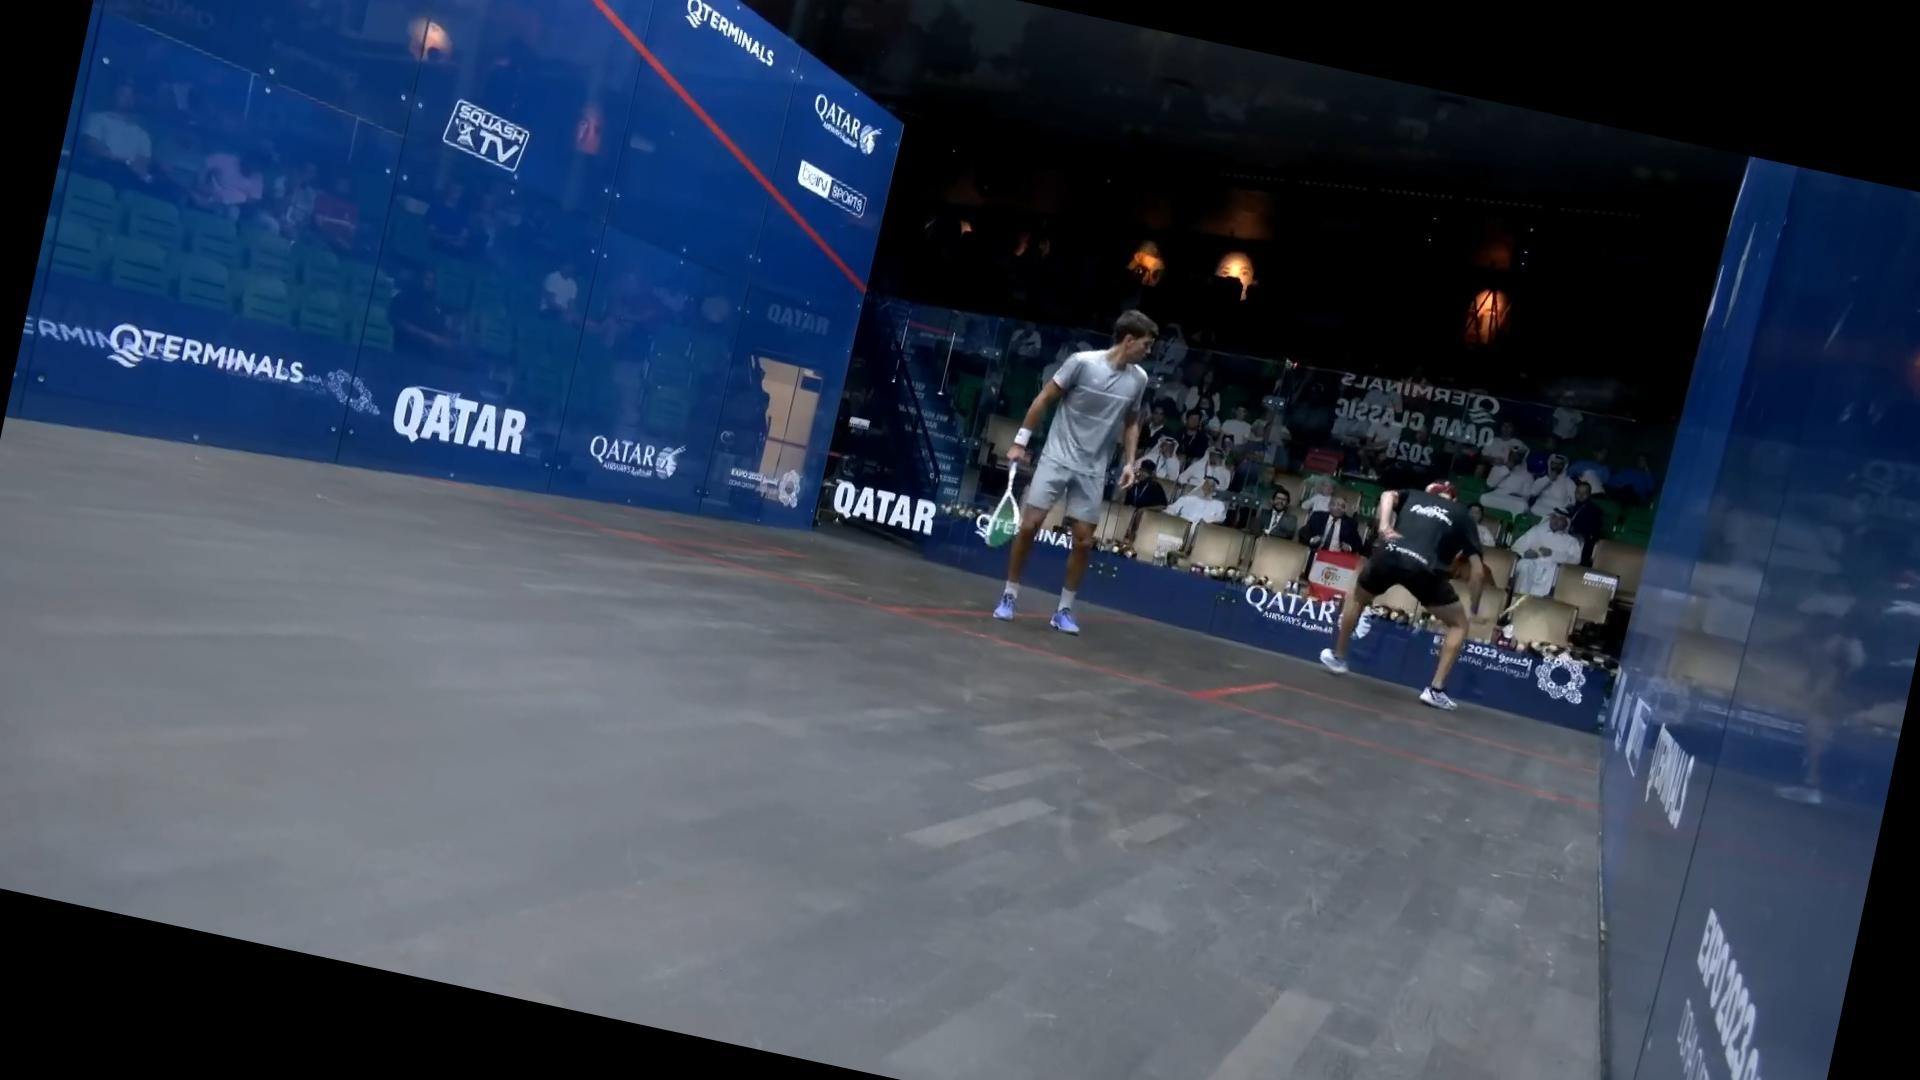Racket: (977, 454, 1035, 554)
